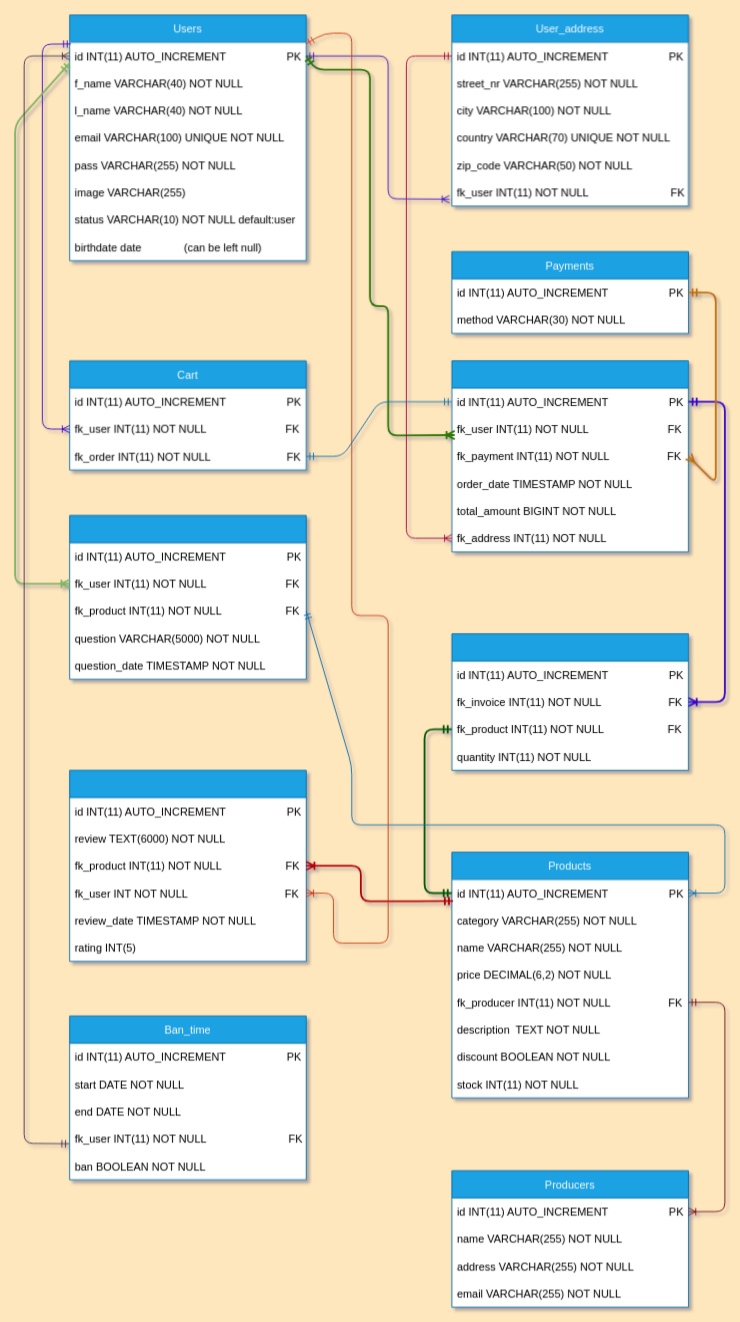
Some shapes in this 740 by 1322 pixel diagram are drawn without their labels. The shapes that lost their labels are listed below. From the top down, each one's box as (x1, y1, x2, y2) in pixels, then its label:
(451, 360, 688, 552): Invoice_details
(69, 515, 306, 679): Questions
(451, 633, 688, 770): Order_products
(69, 769, 306, 961): Reviews
